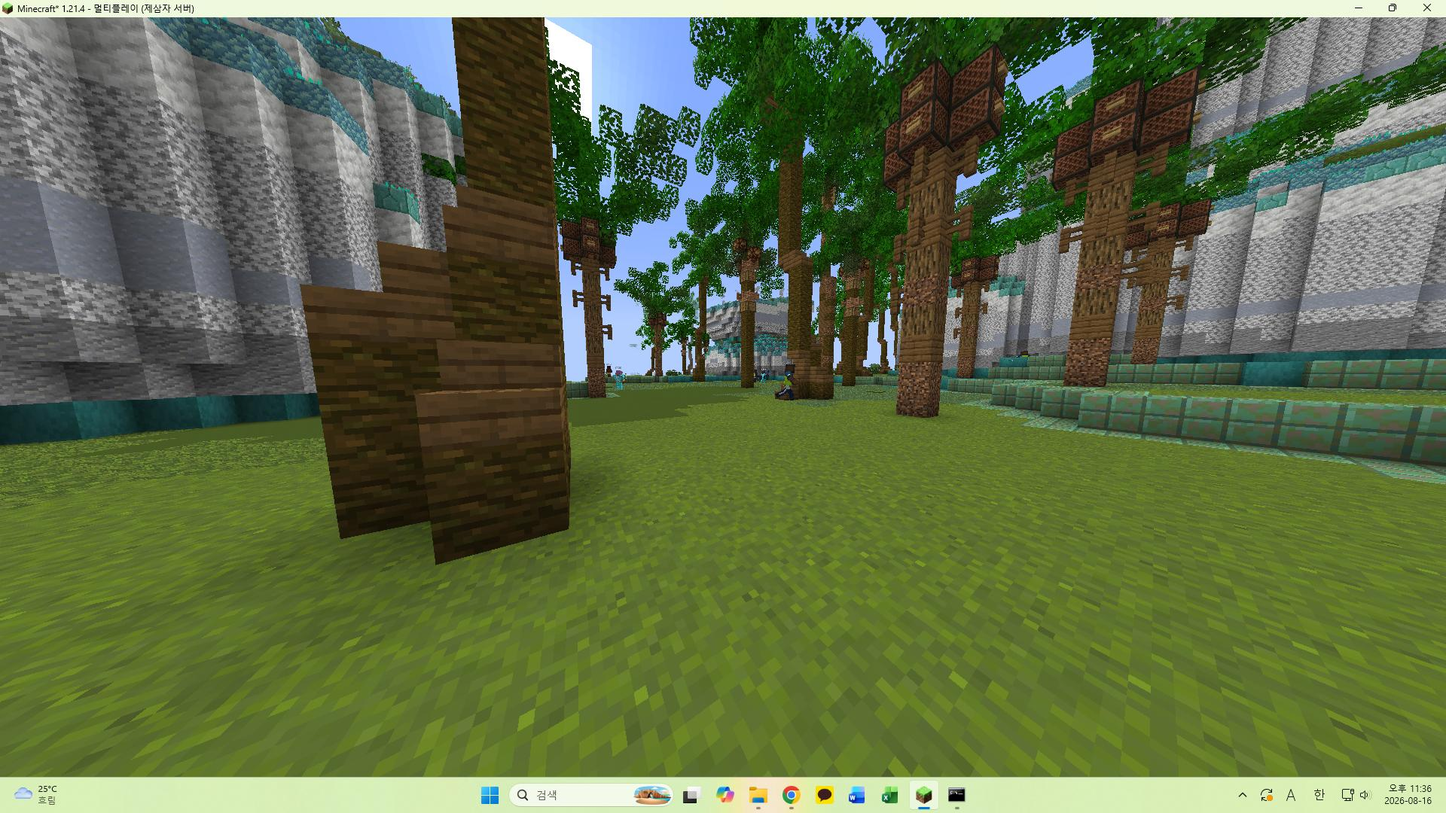Guardian: (773, 362, 801, 400)
